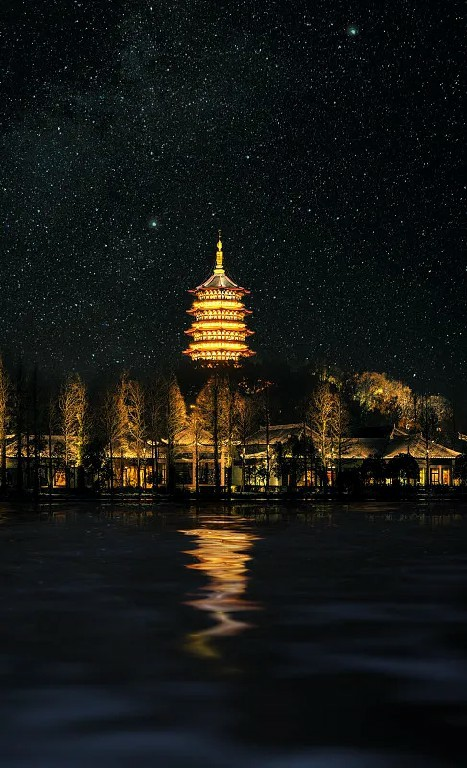Leifeng: (179, 230, 259, 367)
